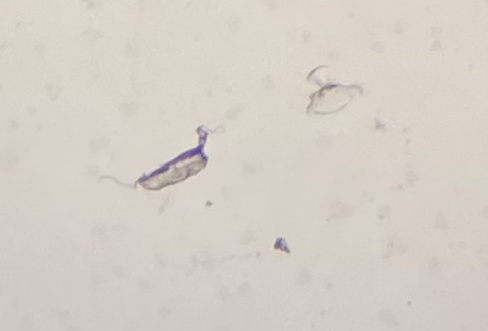microplastic: (133, 126, 208, 192), (305, 66, 365, 116), (273, 236, 292, 254)
